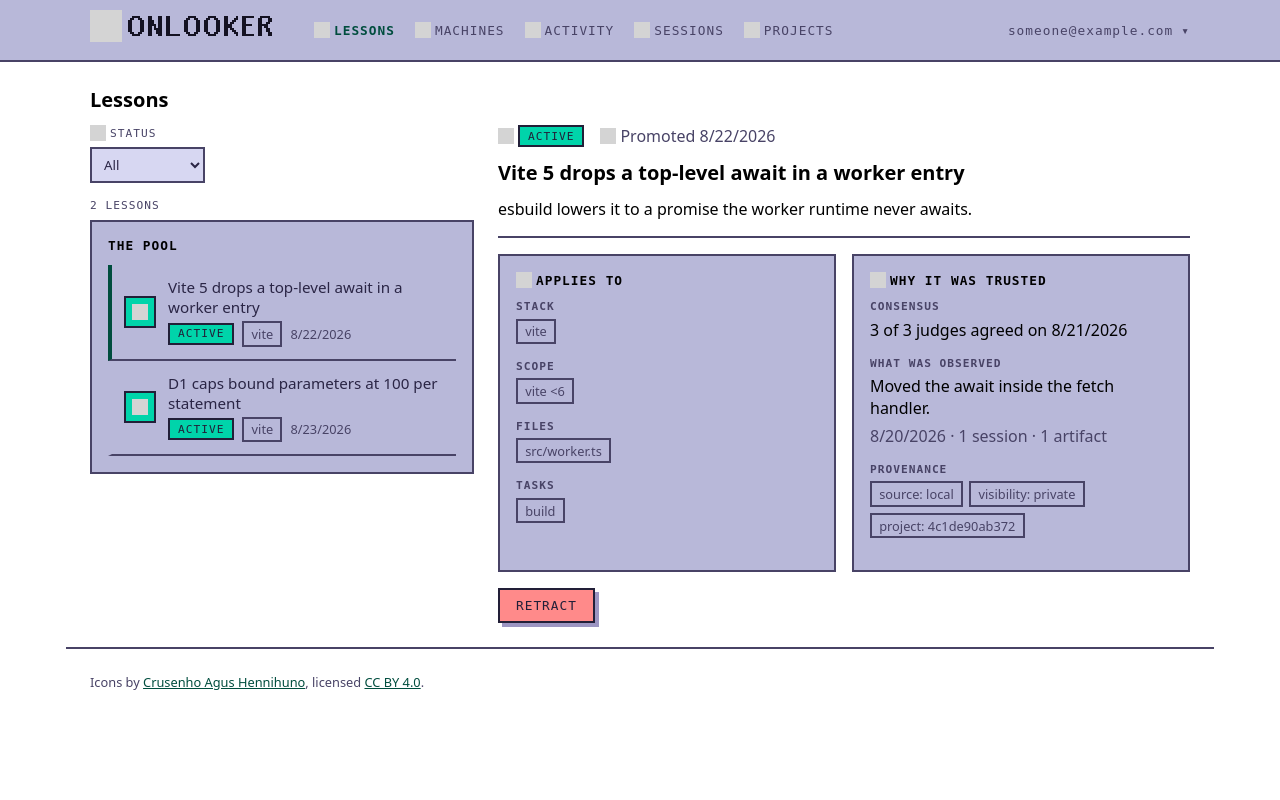
Test case: retract › does not let an armed confirm follow the user to a different lesson
What coordinates should you click on to do the following:
click the button "Retract"
I would click on:
 (546, 606)
Its box is [498,588,595,623].
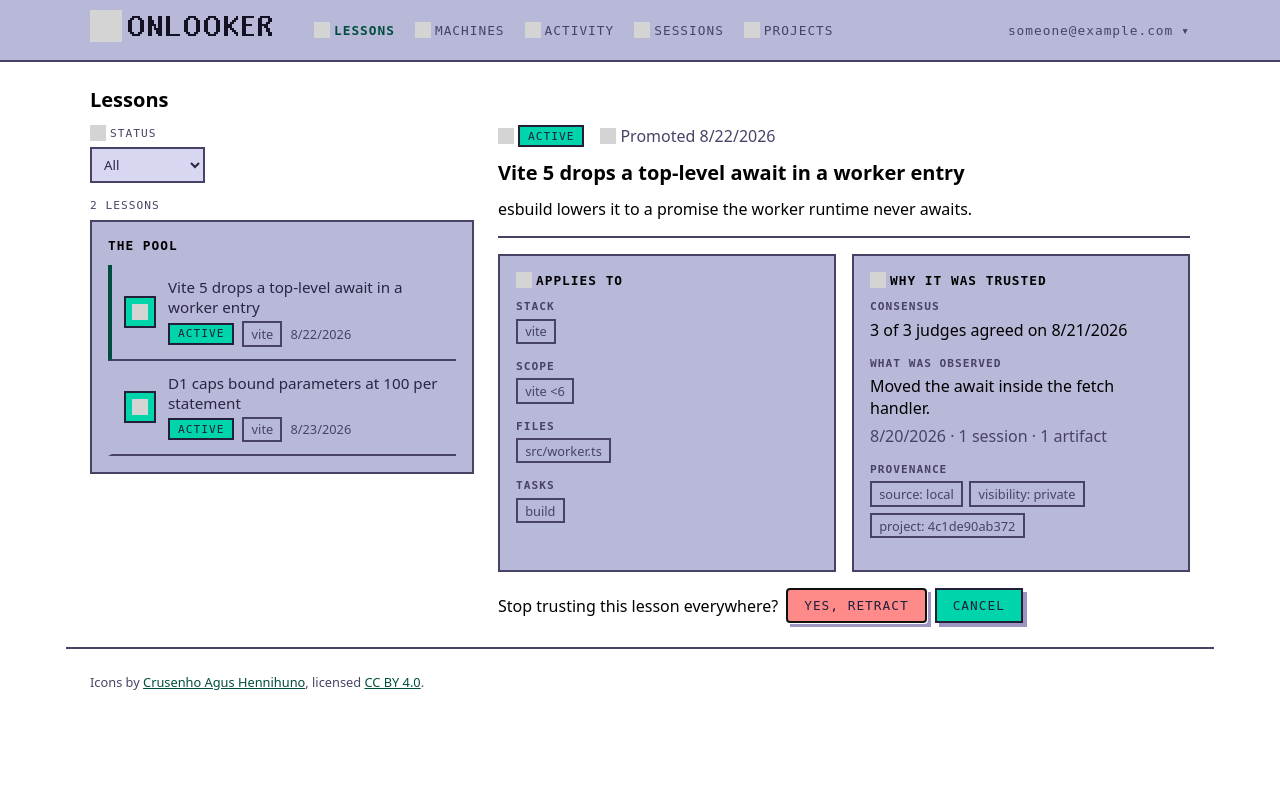
Expected: the button "Yes, retract" is shown, [786,588,927,623]
What coordinates should you click on to do the following:
click the link "D1 caps bound parameters at 100 per statement"
I would click on:
 (140, 407)
Its box is [108,361,456,456].
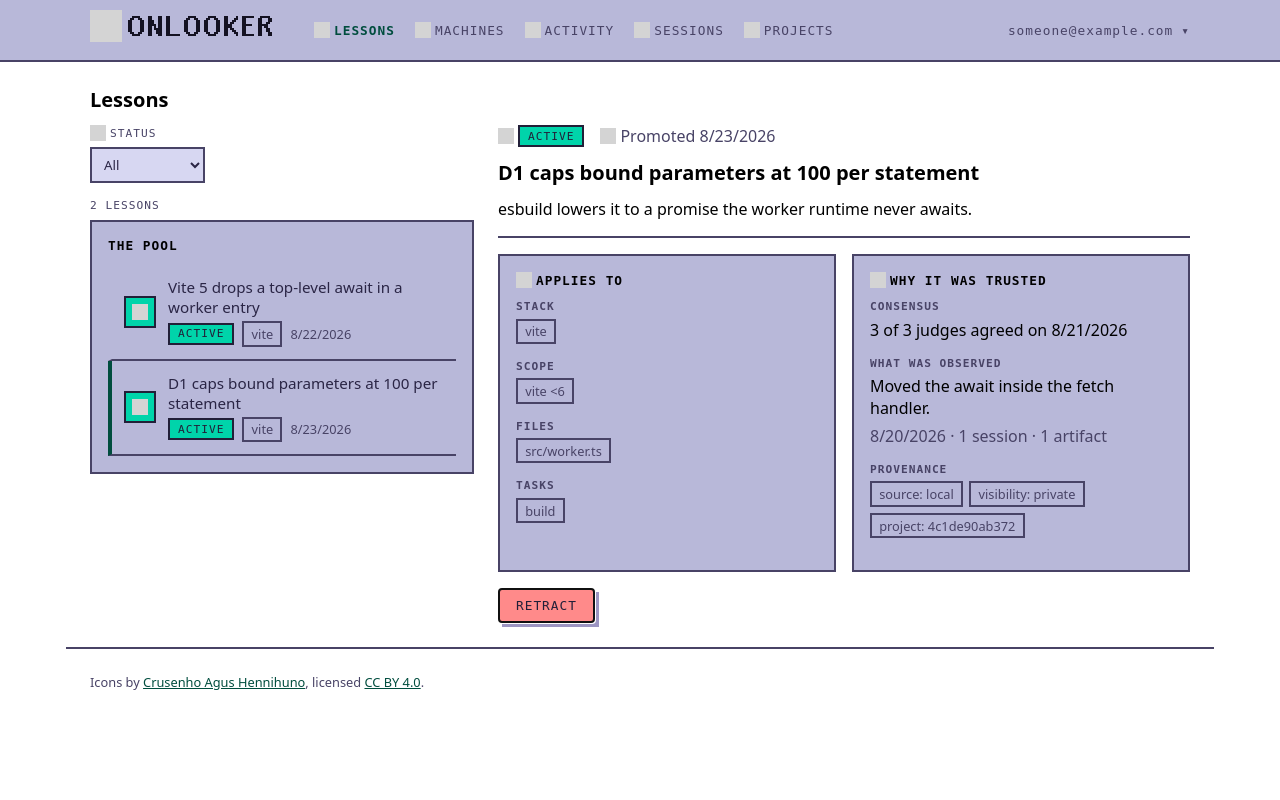
Expected: the heading "D1 caps bound parameters at 100 per statement" is shown, [498,159,979,186]
Expected: the button "Yes, retract" is gone
Expected: the text "Stop trusting this lesson everywhere" is gone
